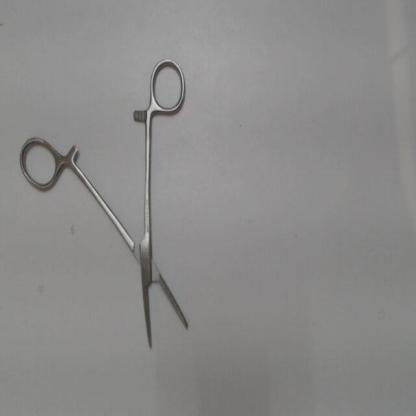Mayo Needle Holder: (14, 53, 204, 360)
